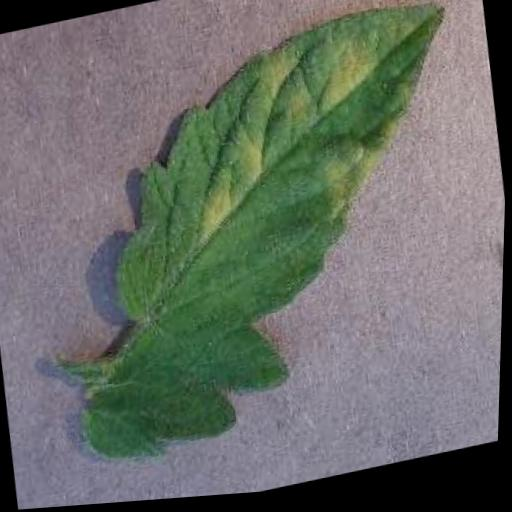Leaf Mold: (29, 0, 500, 480)
